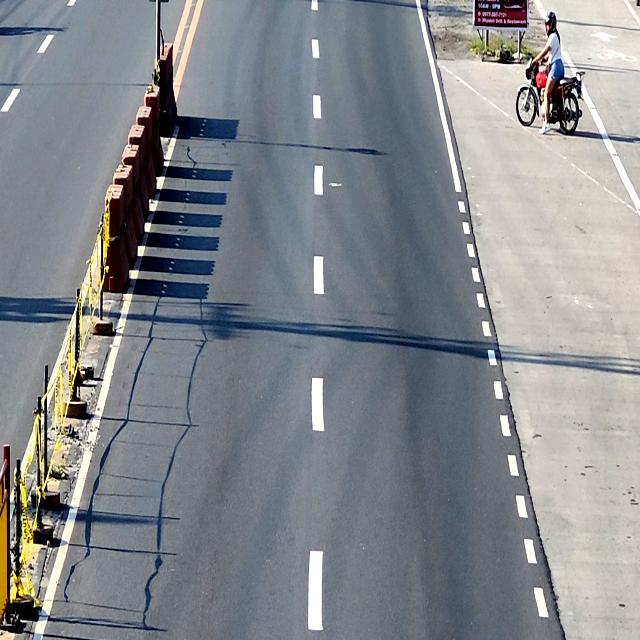Motorcycle: (516, 54, 585, 138)
